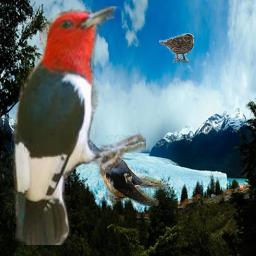Sparrow: (159, 33, 194, 63)
Swallow: (100, 148, 169, 206)
Woodpecker: (12, 6, 146, 245)
